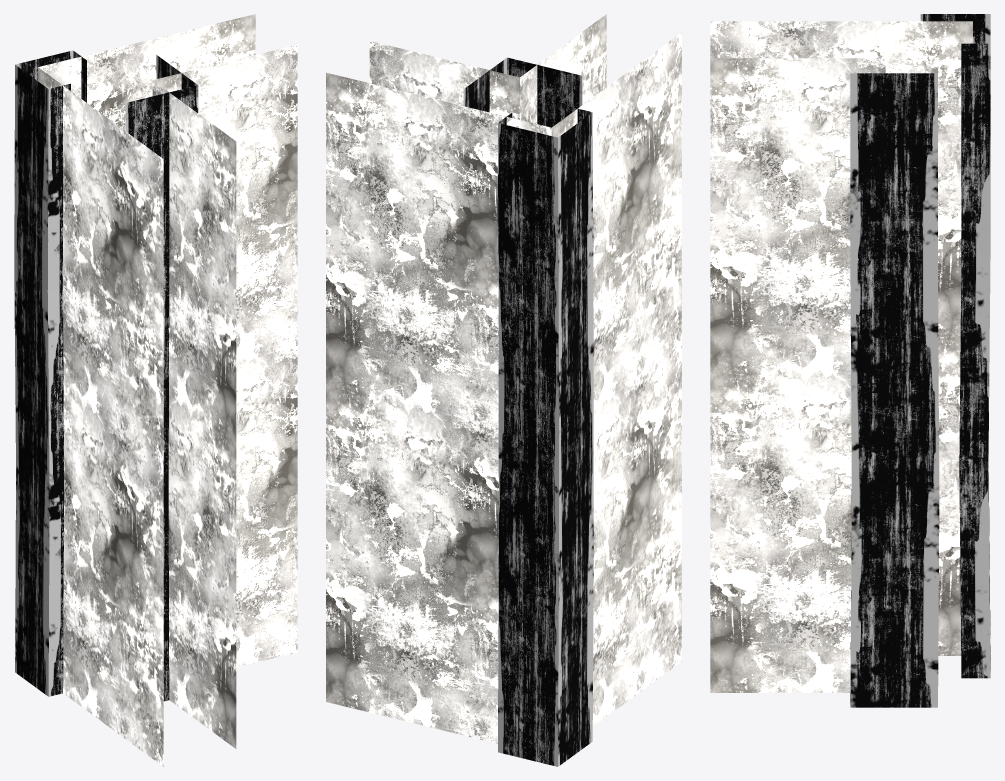
File: SM_wall_A_corner_4_02_01.fbx
3 views of the same model, side by side, from view 1: azimuth 30°, elevation 25°; view 2: azimuth 150°, elevation 25°; view 3: azimuth 270°, elevation 25° (orthographic). The views are drawn at different scales.
Visible parts, largest first — view 1: SM_wall_A_corner_4_02_01_LOD0; view 2: SM_wall_A_corner_4_02_01_LOD0; view 3: SM_wall_A_corner_4_02_01_LOD0.
Boxes of the visible parts, x1,y1,x2,y2 form: SM_wall_A_corner_4_02_01_LOD0: (14, 14, 297, 766); SM_wall_A_corner_4_02_01_LOD0: (326, 14, 681, 766); SM_wall_A_corner_4_02_01_LOD0: (710, 14, 990, 707).
Bounding box in the file's own units: 161 × 160 × 400.
3 materials, 3 textured.
